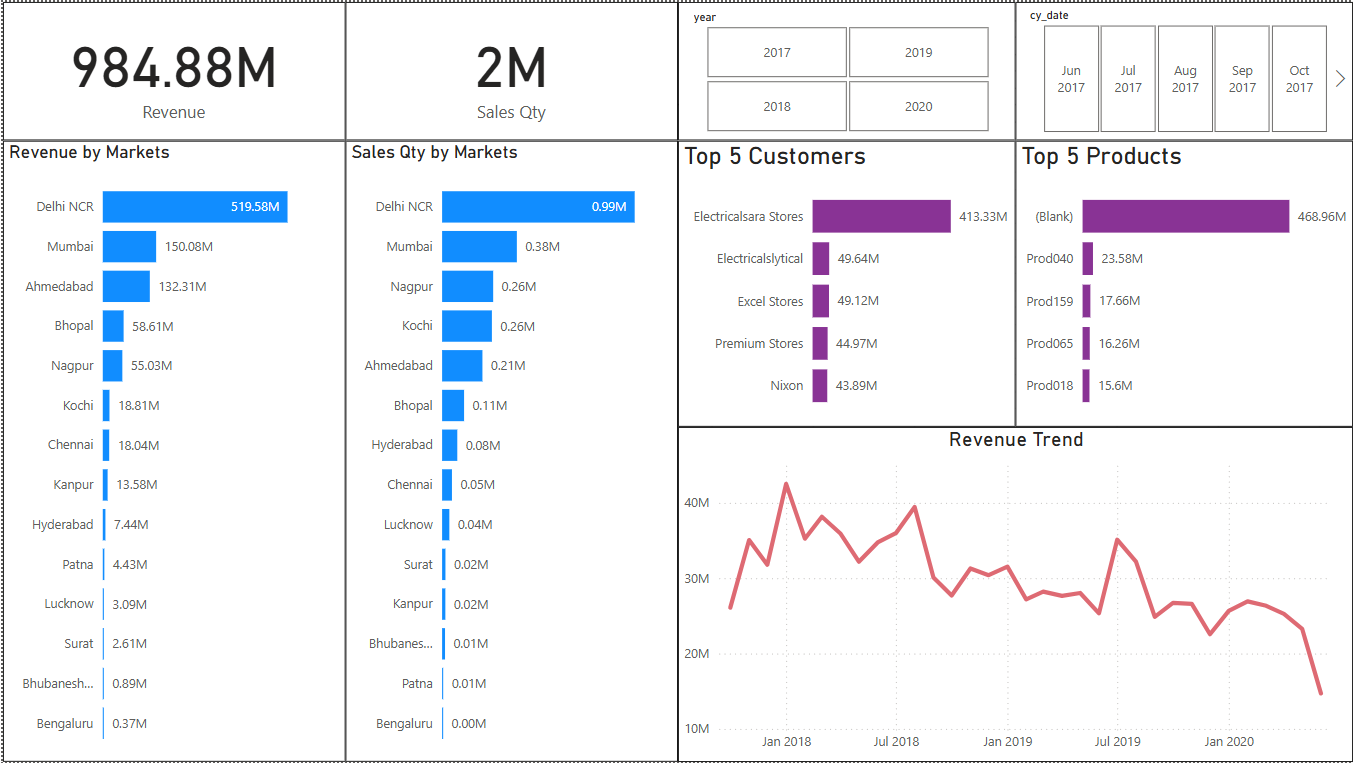

Layout of this report page (visuals, bound fields, positions):
{"tool":"powerbi","page":{"name":"Page 1","canvas":[1280,720],"ordinal":0},"visuals":[{"type":"card","fields":{"Values":["BaseMeasure.Revenue"]},"box":[0,0,324.7,131.6],"z":0},{"type":"card","fields":{"Values":["BaseMeasure.Sales Qty"]},"box":[324.7,0,315.3,131.6],"z":1000},{"type":"clusteredBarChart","title":"Revenue by Markets","fields":{"Y":["BaseMeasure.Revenue"],"Category":["sales markets.markets_name"]},"box":[0,131.6,324.7,589],"z":2000},{"type":"clusteredBarChart","title":"Sales Qty by Markets","fields":{"Y":["BaseMeasure.Sales Qty"],"Category":["sales markets.markets_name"]},"box":[324.7,131.6,315.3,589],"z":3000},{"type":"slicer","fields":{"Values":["sales date.year"]},"box":[640,0,320,131.6],"z":4000},{"type":"slicer","fields":{"Values":["sales date.cy_date"]},"box":[960,0,320,131.6],"z":5000},{"type":"clusteredBarChart","title":"Top 5 Customers","fields":{"Y":["BaseMeasure.Revenue"],"Category":["sales customers.custmer_name"]},"box":[640,131.6,320,271.4],"z":6000},{"type":"clusteredBarChart","title":"Top 5 Products","fields":{"Y":["BaseMeasure.Revenue"],"Category":["sales products.product_code"]},"box":[960,131.6,320,271.4],"z":7000},{"type":"lineChart","title":"Revenue Trend","fields":{"Category":["sales date.cy_date.Variation.Date Hierarchy.Year","sales date.cy_date.Variation.Date Hierarchy.Quarter","sales date.cy_date.Variation.Date Hierarchy.Month","sales date.cy_date.Variation.Date Hierarchy.Day"],"Y":["BaseMeasure.Revenue"]},"box":[640,403,640,317.6],"z":8000}]}

Visuals, with their boxes in screenshot pixels (x1, y1, x2, y2), scaled from the page's 1280x720 canvas onto the 1353x763 screenshot:
card - BaseMeasure.Revenue: 0 0 343 139
card - BaseMeasure.Sales Qty: 343 0 676 139
"Revenue by Markets" clusteredBarChart: 0 139 343 762
"Sales Qty by Markets" clusteredBarChart: 343 139 676 762
slicer - sales date.year: 676 0 1015 139
slicer - sales date.cy_date: 1015 0 1352 139
"Top 5 Customers" clusteredBarChart: 676 139 1015 427
"Top 5 Products" clusteredBarChart: 1015 139 1352 427
"Revenue Trend" lineChart: 676 427 1352 762
